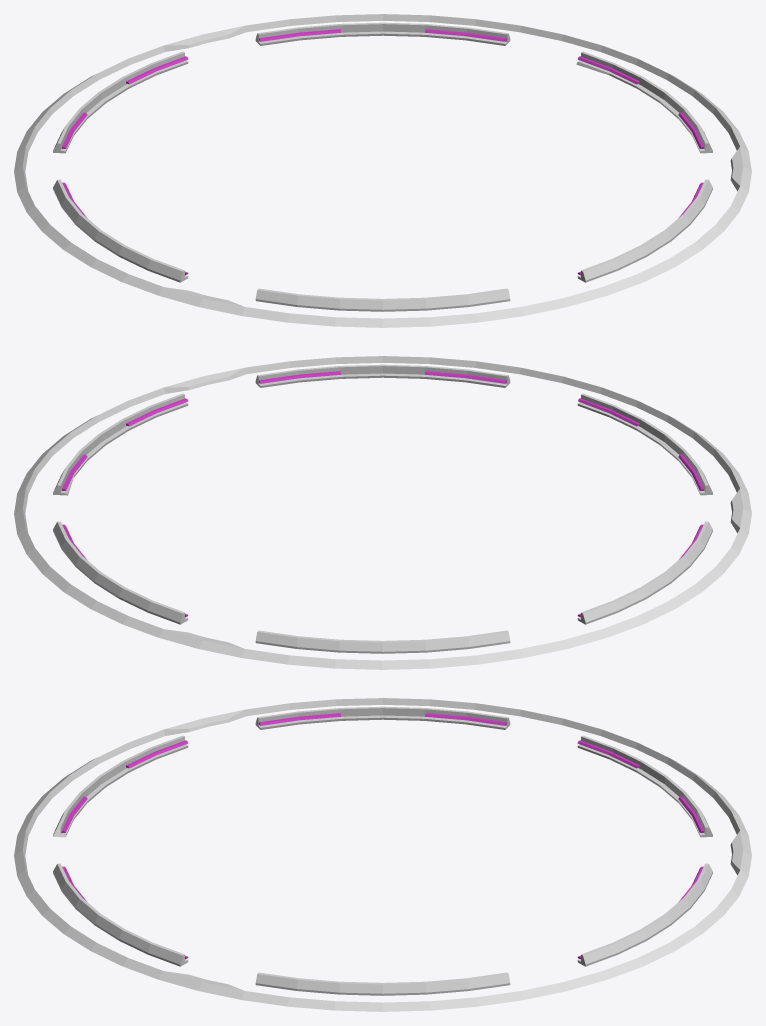
Rendered from GroundCircle.fbx.
3 views of the same model, one above another, from view 1: azimuth 30°, elevation 25°; view 2: azimuth 150°, elevation 25°; view 3: azimuth 270°, elevation 25° (orthographic).
Parts seen in each view (by area): view 1: RingC, RingB; view 2: RingC, RingB; view 3: RingC, RingB.
Part boxes in pixels (box(x1,y1,x2,y2)): RingC: box(14, 14, 751, 327); RingB: box(53, 22, 712, 311); RingC: box(14, 356, 751, 669); RingB: box(53, 364, 712, 653); RingC: box(14, 698, 751, 1011); RingB: box(53, 706, 712, 995).
Size of the model in its own units: 52.46 by 0.8239 by 52.46.
